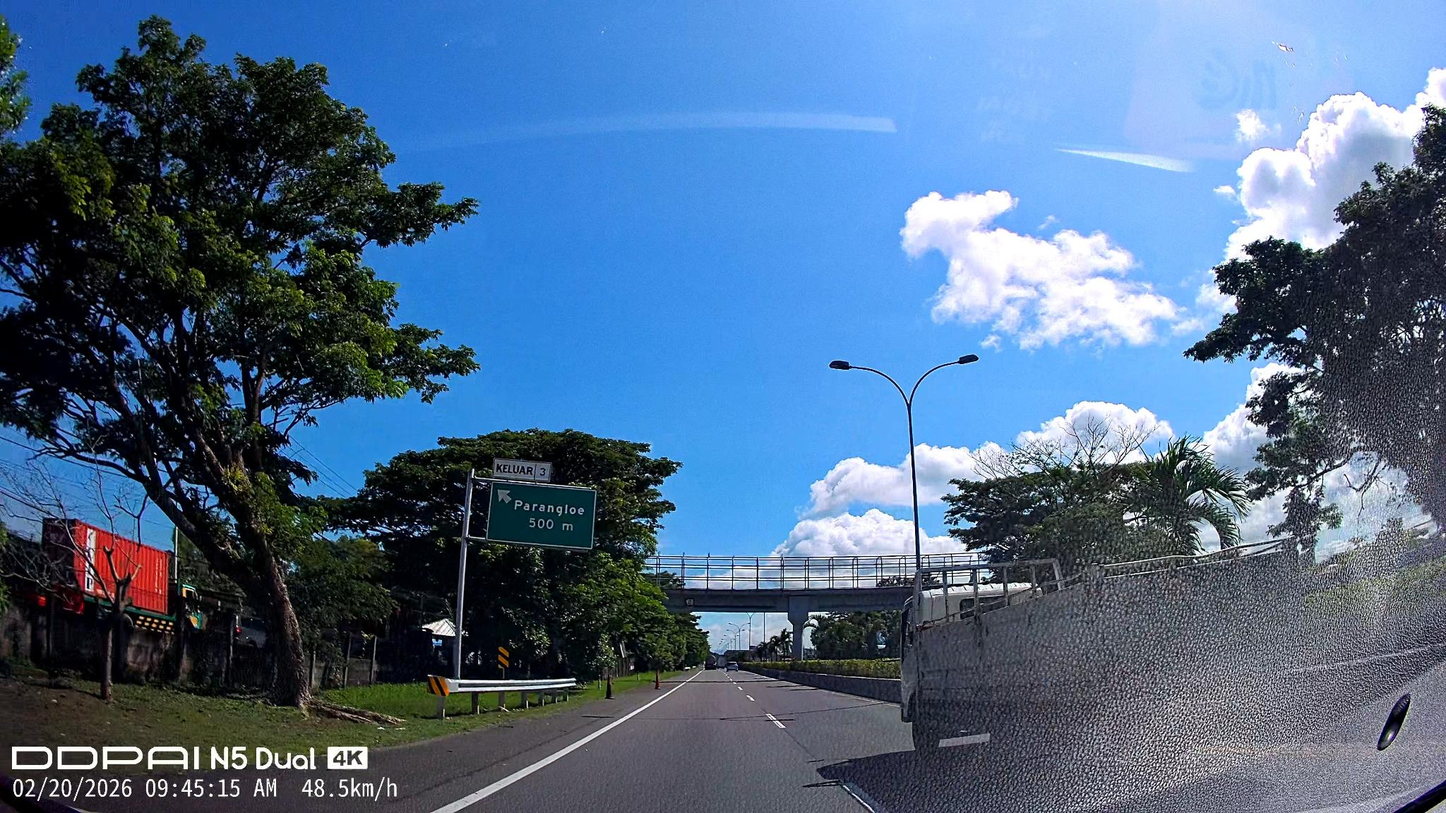rambu_teks: (484, 480, 598, 551)
